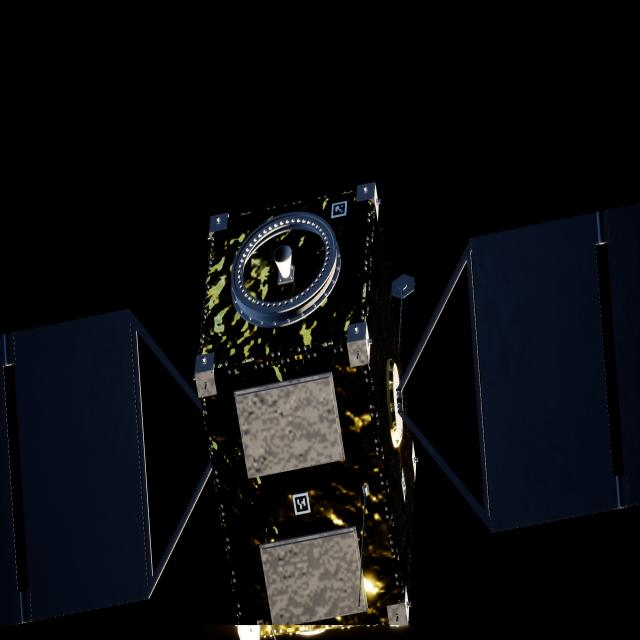medium_debris: (0, 183, 409, 630), (396, 204, 640, 539)
